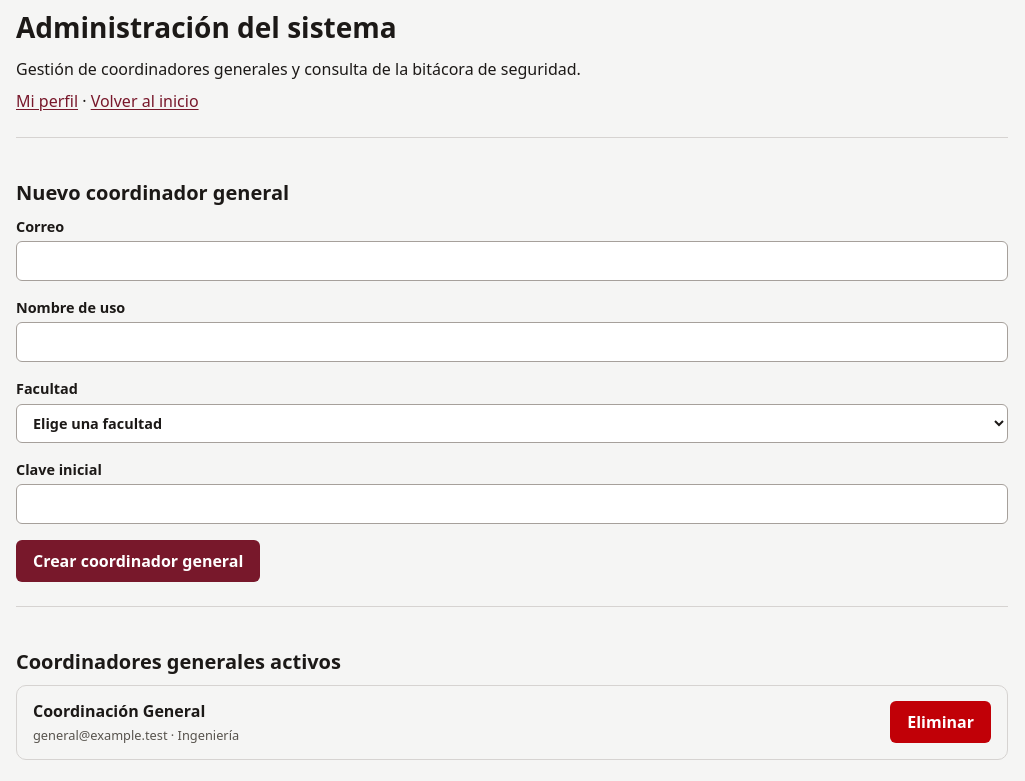
Test: panel de administración › muestra el error del backend y los errores por campo
The width and height of the screenshot is (1025, 781).
Expected: the text "Coordinación General" is shown, [33,700,205,722]
Click the button "Crear coordinador general".
click(138, 561)  # box [16,540,260,582]
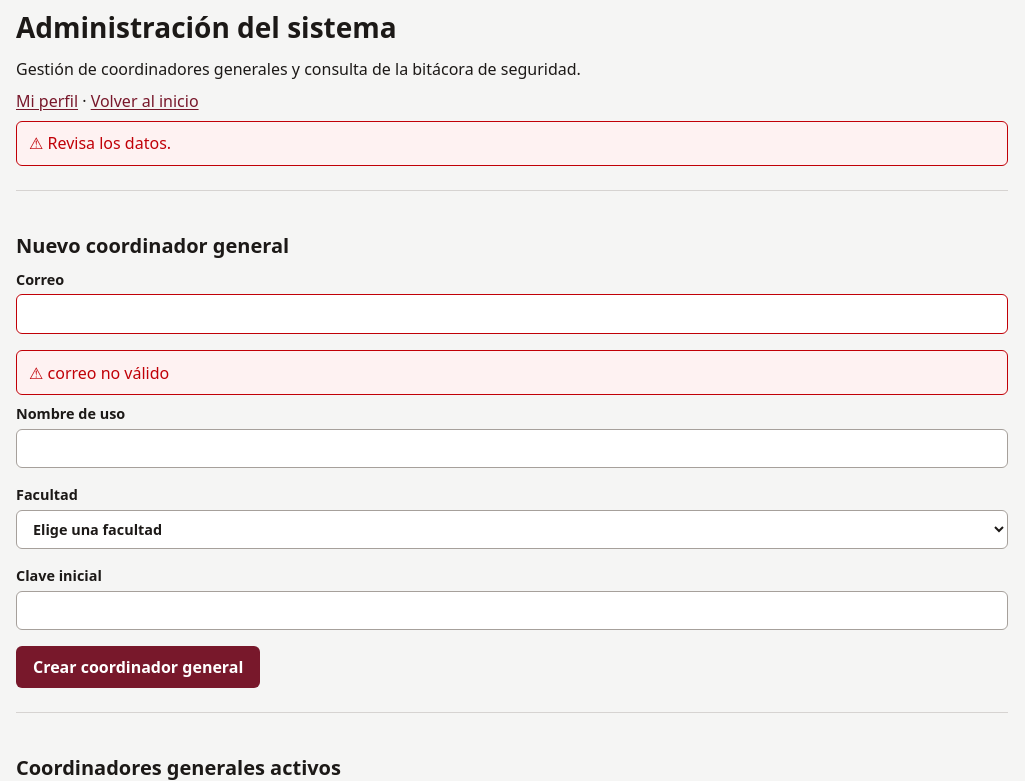
Expected: the message reads "Revisa los datos.", [48,132,171,154]
Expected: the text "correo no válido" is shown, [16,350,1008,395]
